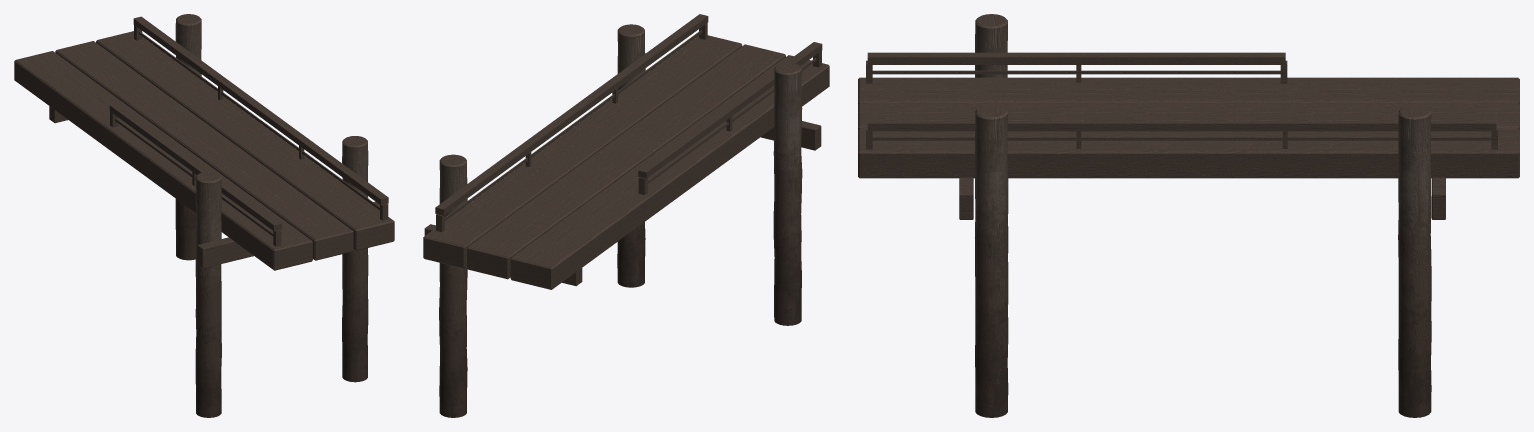
File: japanese_walkway_part01.FBX
3 renders of one model, left to right at view 1: azimuth 30°, elevation 25°; view 2: azimuth 150°, elevation 25°; view 3: azimuth 270°, elevation 25°, orthographic. The views are drawn at different scales.
Parts seen in each view (by area): view 1: japanese_walkway_part01; view 2: japanese_walkway_part01; view 3: japanese_walkway_part01.
Part boxes in pixels (x1,y1,x2,y2): japanese_walkway_part01: (14, 14, 394, 417); japanese_walkway_part01: (423, 14, 829, 417); japanese_walkway_part01: (858, 14, 1519, 417).
Size of the model in its own units: 160 by 200 by 400.
